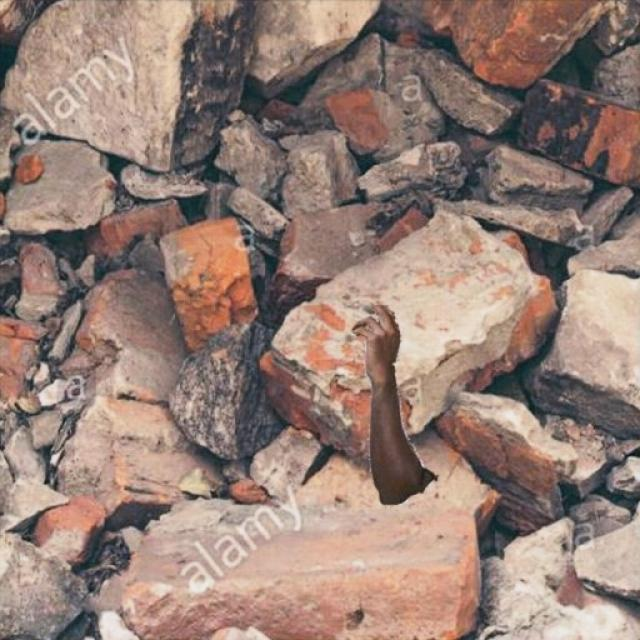Person in Rubble: (350, 305, 438, 504)
